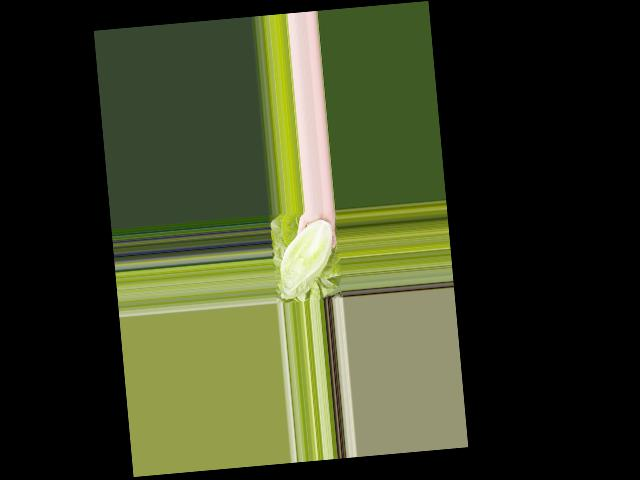lettuce: (273, 217, 339, 300)
